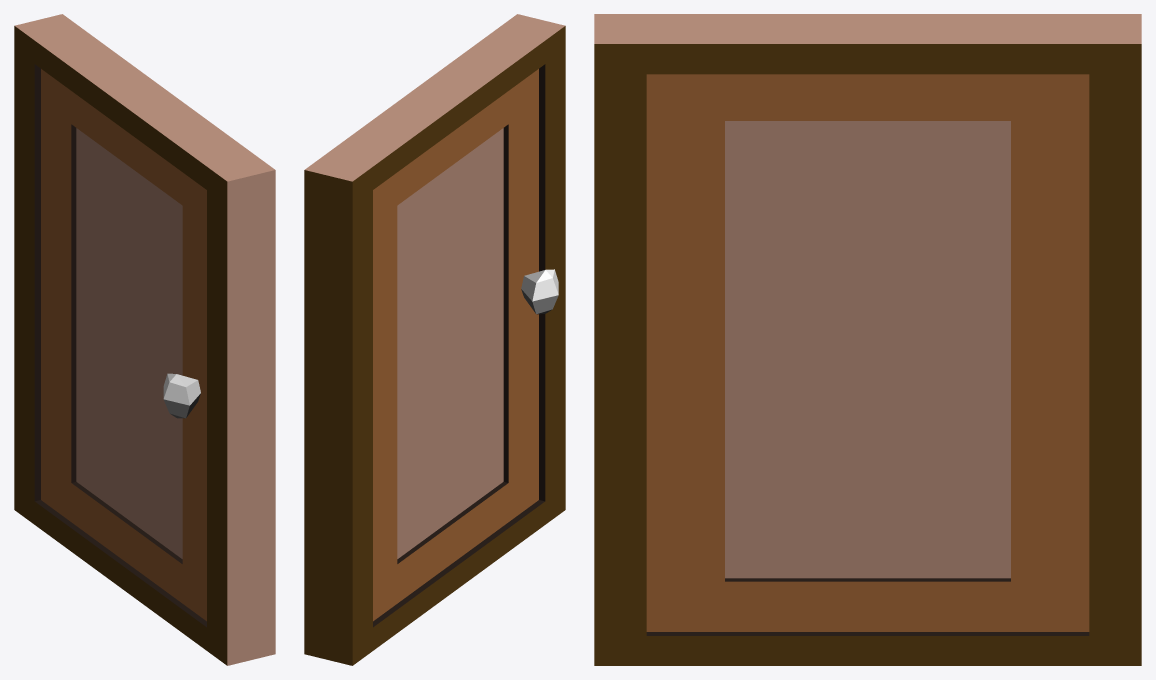
File: Hall door.fbx
3 renders of one model, left to right at view 1: azimuth 30°, elevation 25°; view 2: azimuth 150°, elevation 25°; view 3: azimuth 270°, elevation 25°, orthographic. The views are drawn at different scales.
Visible parts, largest first — view 1: Cube; view 2: Cube; view 3: Cube.
Part boxes in pixels (box(x1,y1,x2,y2)): Cube: box(14, 14, 275, 665); Cube: box(304, 14, 565, 665); Cube: box(594, 14, 1141, 665).
Size of the model in its own units: 59.41 by 359 by 286.
Materials: 1 (1 with a texture image).
